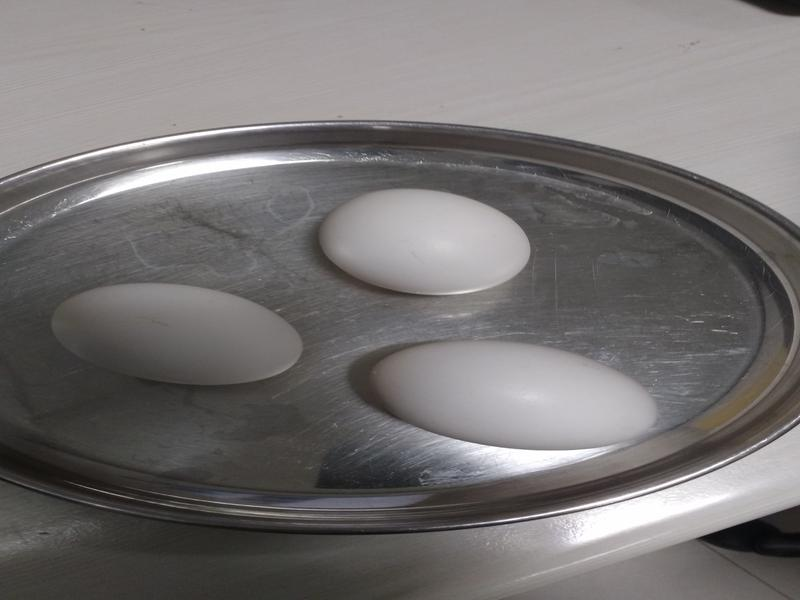egg: (372, 334, 660, 457)
